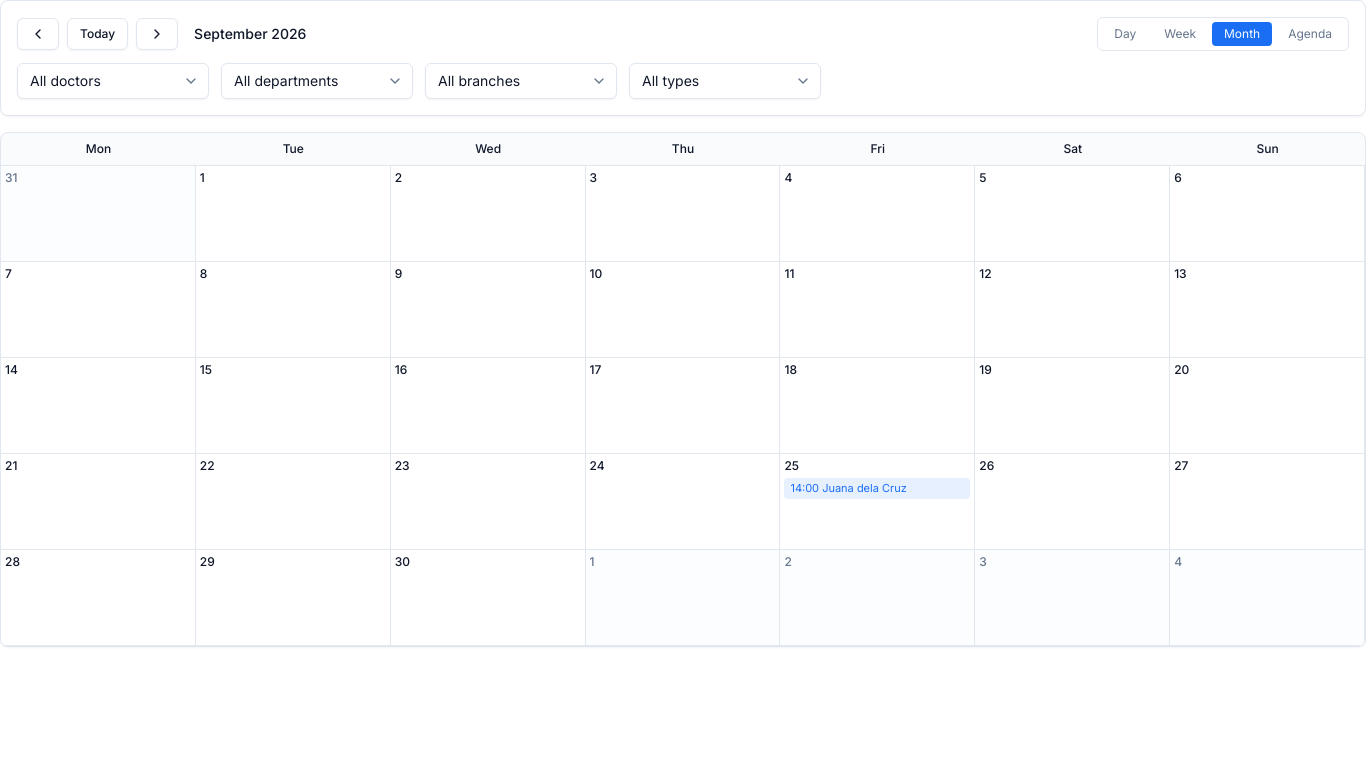
Test: AppointmentCalendar › clicking an appointment entry opens Appointment Details with the reused dialog
What coordinates should you click on to do the following:
click the button "14:00 Juana dela Cruz"
I would click on:
 (877, 488)
Its box is [784,478,970,498].
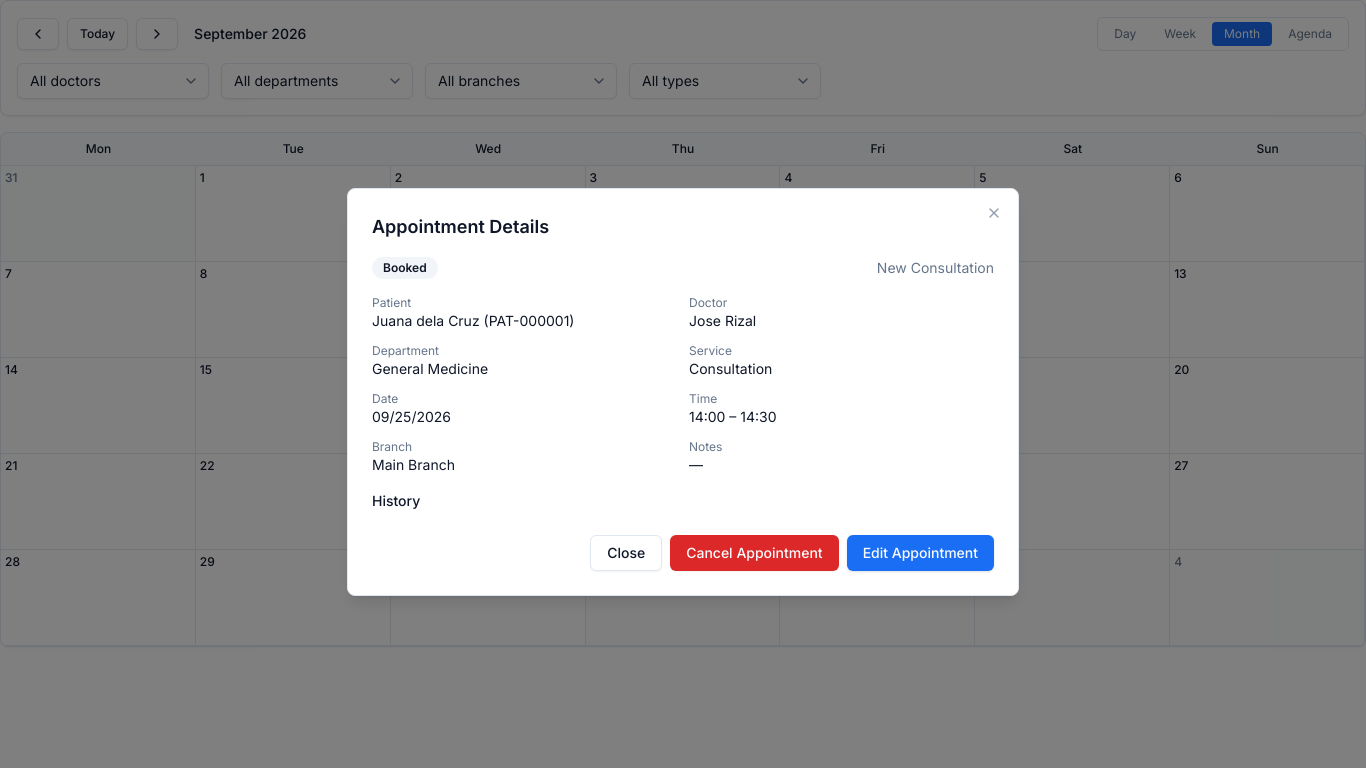
Now the text "Juana dela Cruz (PAT-000001)" is shown, box [372,312,574,329]
Now the text "Jose Rizal" is shown, box [689,312,756,329]
